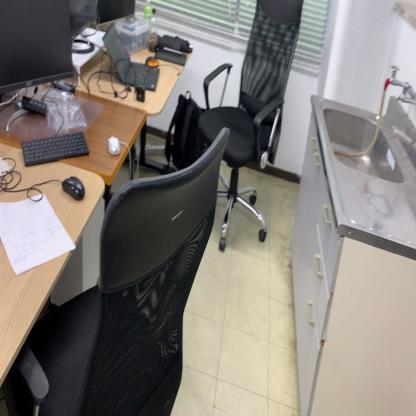chair: (10, 125, 229, 416), (198, 0, 306, 257)
